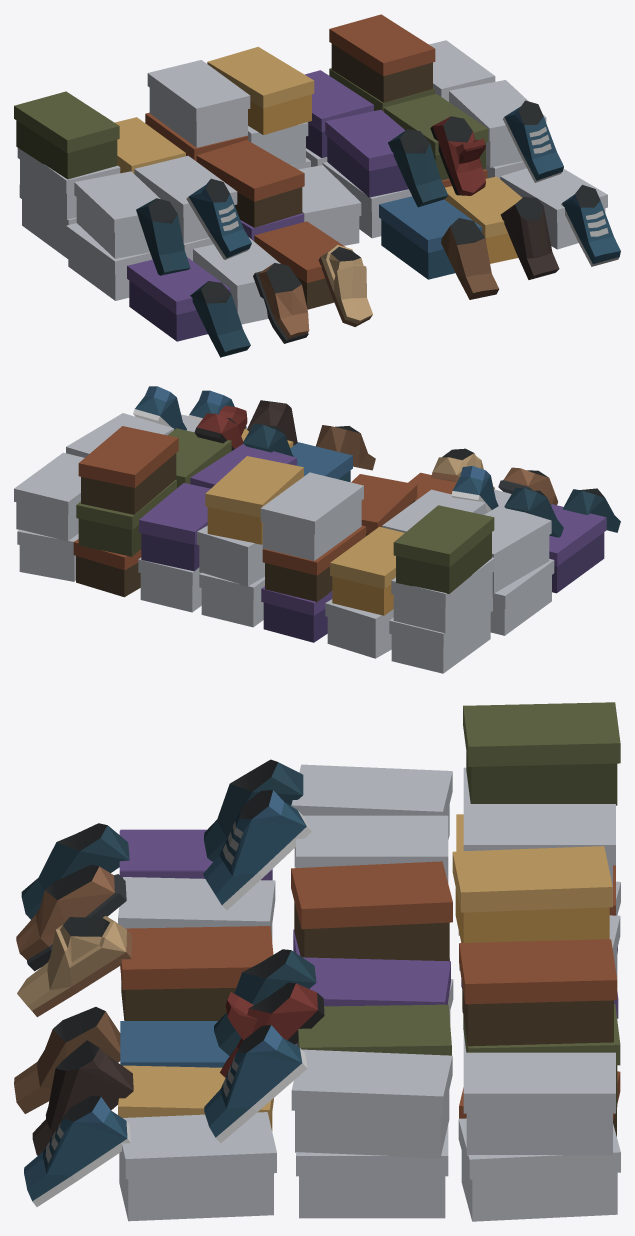
Rendered from SM_Prop_ShoeShop_01.glb.
3 views of the same model, one above another, from view 1: azimuth 30°, elevation 25°; view 2: azimuth 150°, elevation 25°; view 3: azimuth 270°, elevation 25° (orthographic). The views are drawn at different scales.
Parts seen in each view (by area): view 1: SM_Prop_ShoeShop_01; view 2: SM_Prop_ShoeShop_01; view 3: SM_Prop_ShoeShop_01.
Part boxes in pixels (<box>): SM_Prop_ShoeShop_01: <box>14,14,620,357</box>; SM_Prop_ShoeShop_01: <box>14,386,620,673</box>; SM_Prop_ShoeShop_01: <box>14,702,620,1221</box>.
Bounding box in the file's own units: 1.5 × 0.4016 × 1.15.
Materials: 1 (1 with a texture image).
